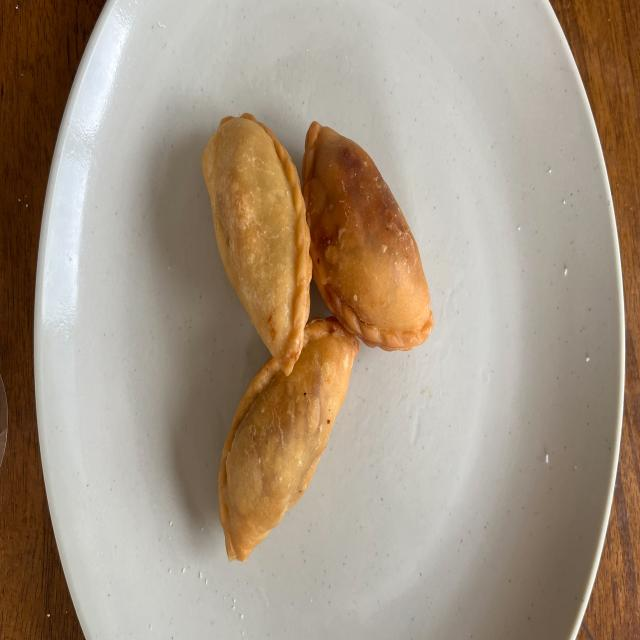karipap: (219, 318, 360, 562), (302, 122, 434, 351), (201, 113, 312, 376)
